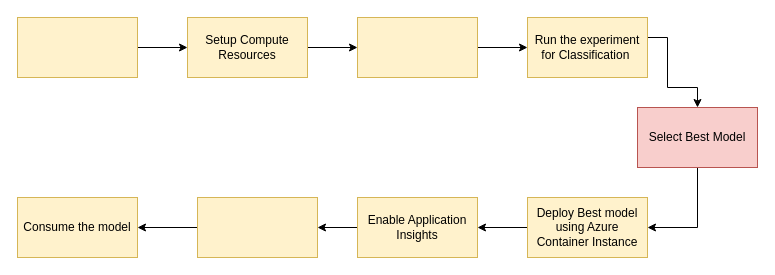
Image size: 775x275. Some labels were removed from this diagram. Each missing label, with the box of its shape:
Create AutoML configs and Setup experiment: (356, 16, 478, 78)
Interact with Swagger: (196, 196, 318, 258)
Register Dataset: (16, 16, 138, 78)
